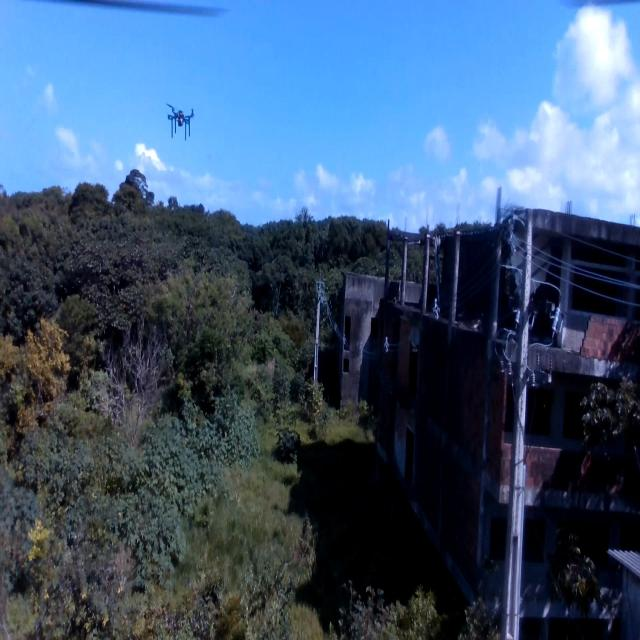-uav-: (158, 90, 198, 152)
